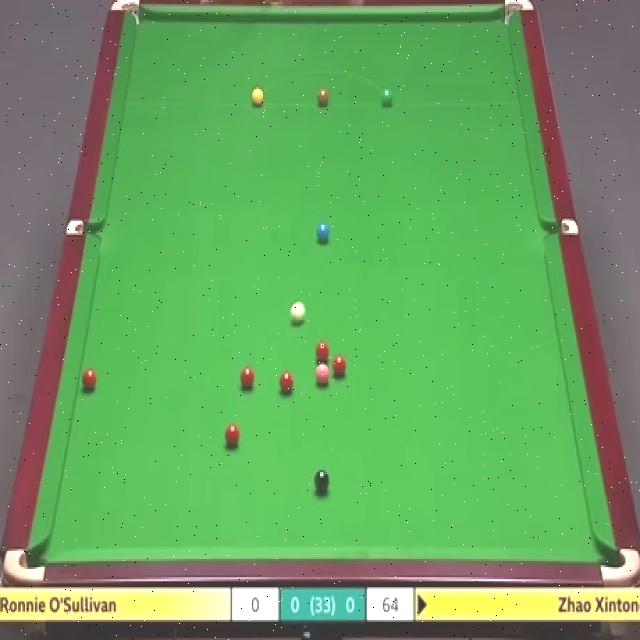black-ball: (313, 470, 330, 491)
blue-ball: (316, 224, 330, 241)
brown-ball: (317, 88, 328, 106)
green-ball: (380, 85, 395, 108)
pink-ball: (316, 364, 330, 384)
red-ball: (224, 424, 241, 447), (332, 355, 348, 377), (316, 340, 331, 362), (82, 369, 96, 392), (240, 367, 255, 388), (282, 373, 294, 393)
white-ball: (288, 301, 306, 326)
yellow-ball: (251, 87, 264, 108)
